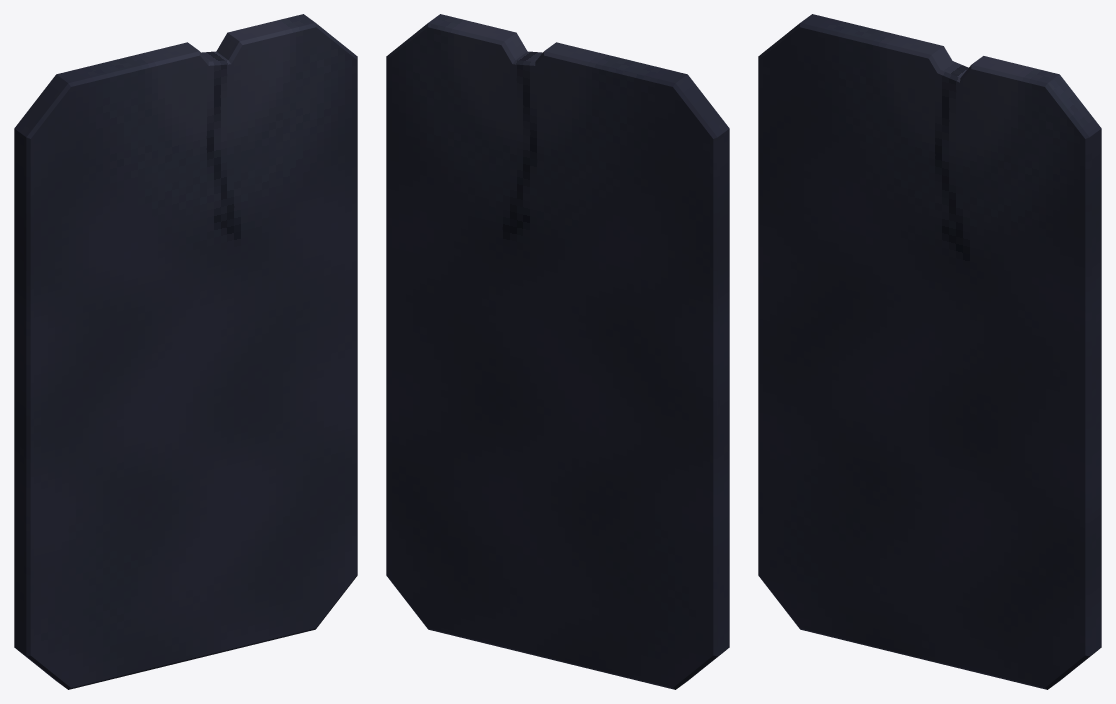
File: relic.glb
The picture shows the model from 3 angles, left to right: view 1: azimuth 30°, elevation 25°; view 2: azimuth 150°, elevation 25°; view 3: azimuth 330°, elevation 25°; orthographic projection.
Parts seen in each view (by area): view 1: Body.Shell; view 2: Body.Shell; view 3: Body.Shell.
Part boxes in pixels (left/top/right/bottom): Body.Shell: left=14, top=14, right=357, bottom=689; Body.Shell: left=386, top=14, right=729, bottom=689; Body.Shell: left=758, top=14, right=1101, bottom=689.
Size of the model in its own units: 0.1875 by 0.3281 by 0.015.
Materials: 1 (1 with a texture image).
